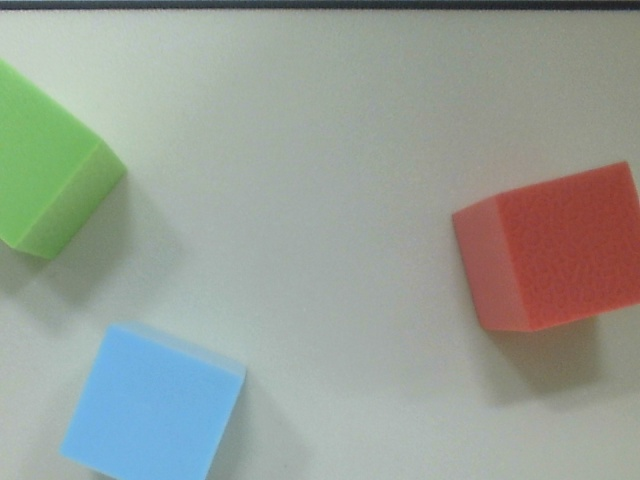greencube: (1, 54, 133, 267)
